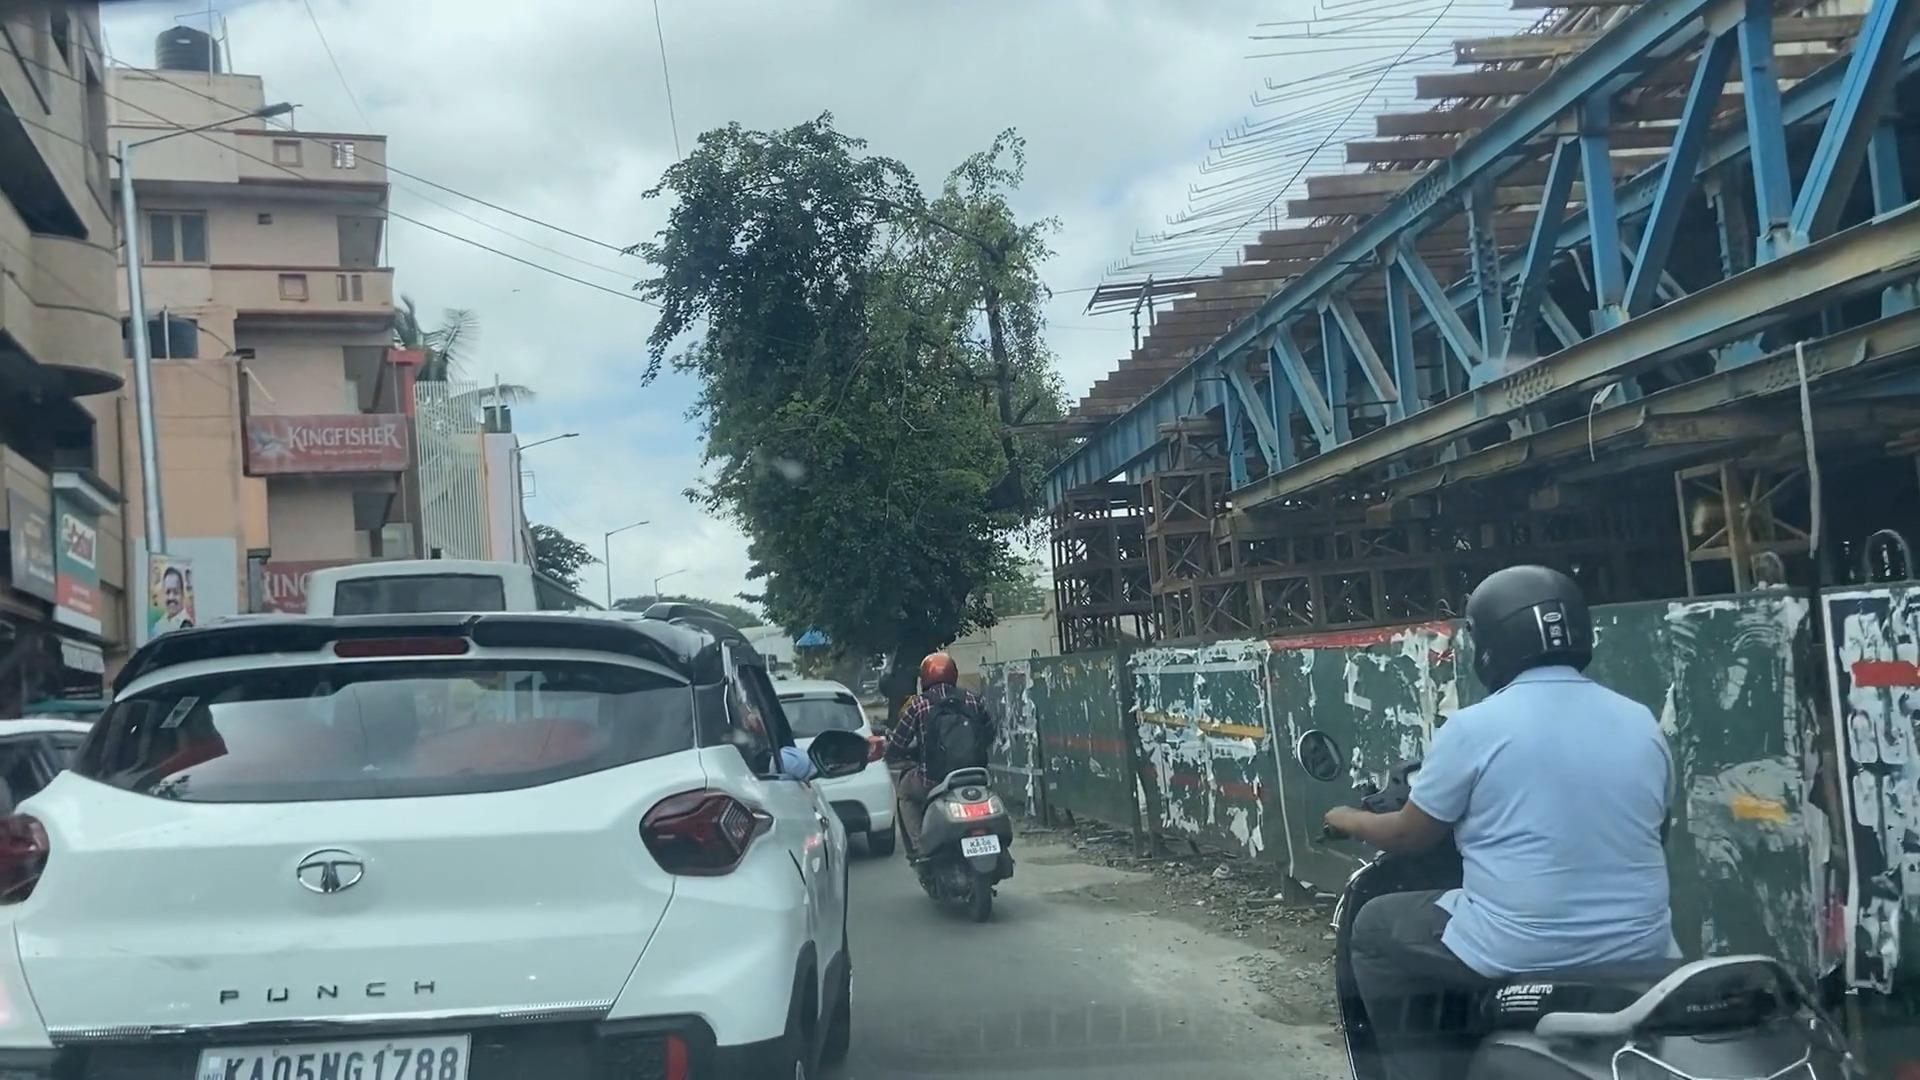LMV: (11, 607, 738, 1080), (905, 626, 1009, 951)
